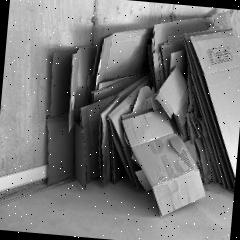paper: (112, 104, 213, 221), (176, 25, 240, 179), (98, 29, 147, 84)
